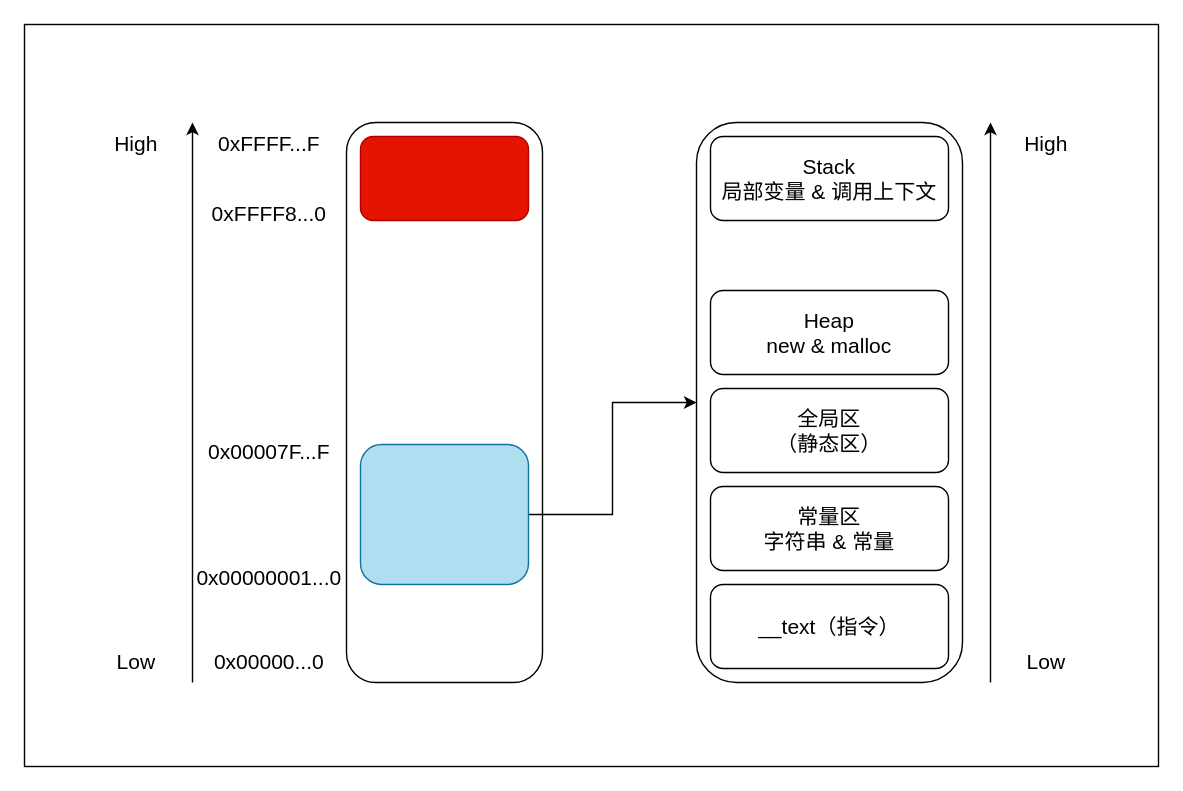
This 1183x791 diagram has some shape labels left out. Each missing label, with the centre of its shape:
用户可操作区: the point at 443,513
系统区: the point at 443,177
